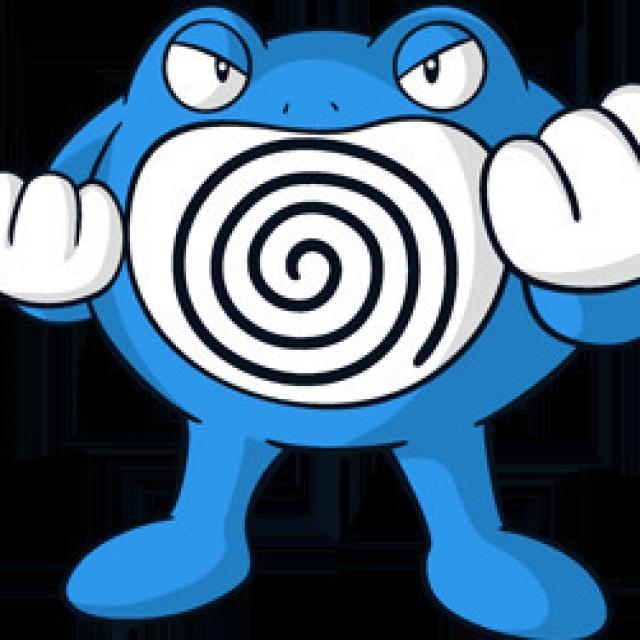Poliwrath: (40, 8, 632, 616)
